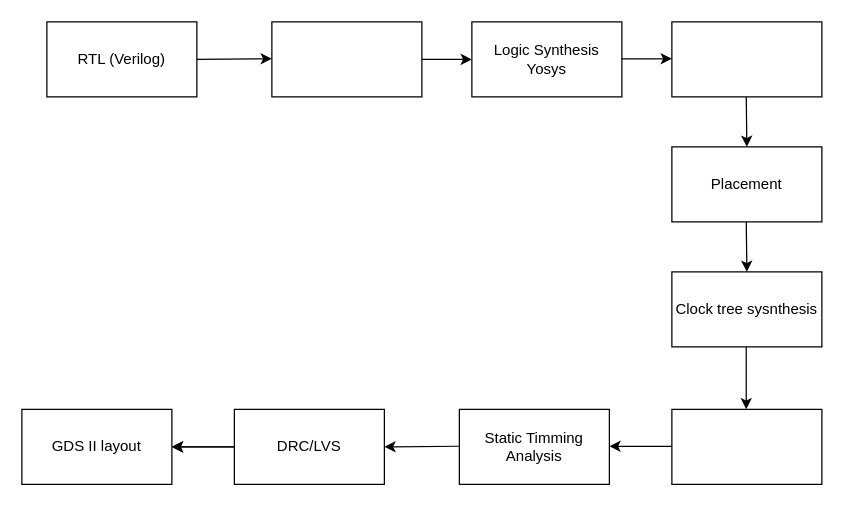
The diagram is 844 pixels wide and 506 high, and some of its shapes have lost their labels. Each missing label, with the centre of its shape:
"Floor Planning" goes at point 746,59.
"Functional Verification" goes at point 346,59.
"Routing" goes at point 746,446.
